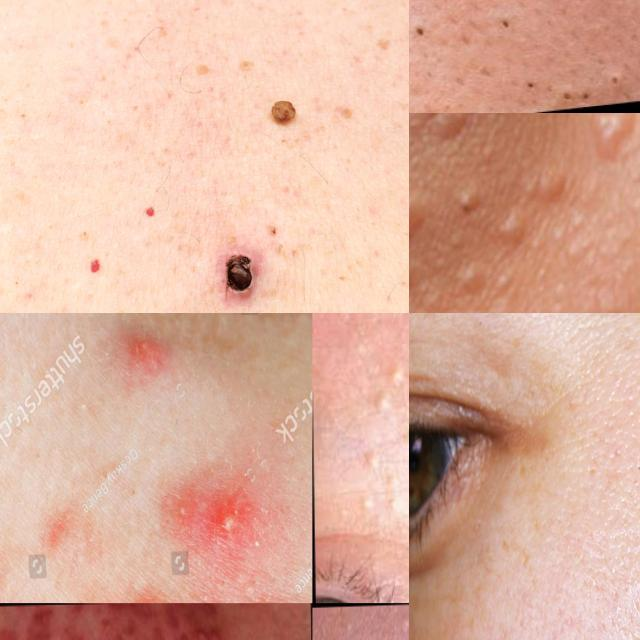comedone: (214, 237, 265, 303), (551, 64, 626, 108), (411, 5, 445, 59), (487, 1, 525, 40), (517, 72, 540, 113)
milium: (372, 368, 404, 419), (361, 444, 384, 480)
papule: (190, 614, 222, 640)
pustule: (207, 492, 238, 544)
sebo-crystan-conglo: (127, 324, 159, 375)
syringoma: (409, 113, 469, 313), (547, 113, 640, 186)
